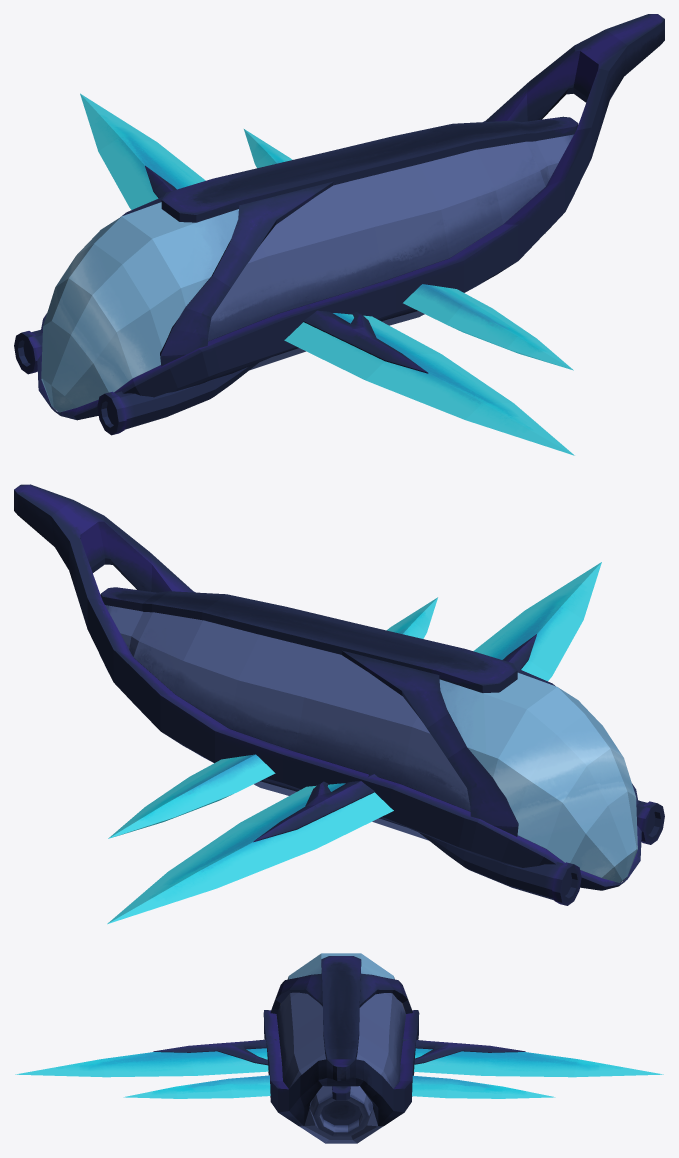
Rendered from Space_Plane.fbx.
The picture shows the model from 3 angles, top to bottom: view 1: azimuth 30°, elevation 25°; view 2: azimuth 150°, elevation 25°; view 3: azimuth 270°, elevation 25°; orthographic projection. The views are drawn at different scales.
Parts seen in each view (by area): view 1: Cylinder.021, Cylinder.023, Cylinder.022, Cube.025, Cube.019, Cube.022, Cube.026, Cylinder.025, Cube.027, Cylinder.024, Cube.023; view 2: Cylinder.021, Cylinder.023, Cylinder.022, Cube.022, Cube.018, Cube.025, Cube.023, Cylinder.024, Cube.024, Cylinder.025, Cube.026; view 3: Cylinder.021, Cylinder.023, Cube.025, Cube.022, Cylinder.022, Cube.026, Cube.023, Cube.027, Cube.024, Cube.018, Cube.019.
Part boxes in pixels (<box>): Cylinder.021: <box>41,134,579,412</box>; Cylinder.023: <box>37,14,664,420</box>; Cylinder.022: <box>161,116,578,222</box>; Cube.025: <box>284,313,574,455</box>; Cube.019: <box>160,181,333,366</box>; Cube.022: <box>80,93,205,209</box>; Cube.026: <box>403,284,573,370</box>; Cylinder.025: <box>97,362,258,435</box>; Cube.027: <box>303,305,428,373</box>; Cylinder.024: <box>14,329,42,374</box>; Cube.023: <box>244,129,292,168</box>; Cylinder.021: <box>99,605,637,882</box>; Cylinder.023: <box>14,484,641,890</box>; Cylinder.022: <box>100,587,517,692</box>; Cube.022: <box>107,783,393,924</box>; Cube.018: <box>341,650,518,836</box>; Cube.025: <box>473,562,601,681</box>; Cube.023: <box>108,754,275,838</box>; Cylinder.024: <box>418,832,581,905</box>; Cube.024: <box>253,774,377,842</box>; Cylinder.025: <box>636,800,664,844</box>; Cube.026: <box>387,597,437,638</box>; Cylinder.021: <box>276,953,405,1143</box>; Cylinder.023: <box>263,1010,419,1126</box>; Cube.025: <box>15,1048,268,1077</box>; Cube.022: <box>414,1048,663,1077</box>; Cylinder.022: <box>321,956,361,1100</box>; Cube.026: <box>123,1075,270,1098</box>; Cube.023: <box>412,1075,555,1098</box>; Cube.027: <box>153,1039,276,1065</box>; Cube.024: <box>402,1039,525,1064</box>; Cube.018: <box>359,973,412,1013</box>; Cube.019: <box>270,973,322,1013</box>.
Bounding box in the file's own units: 351 × 140 × 490.
